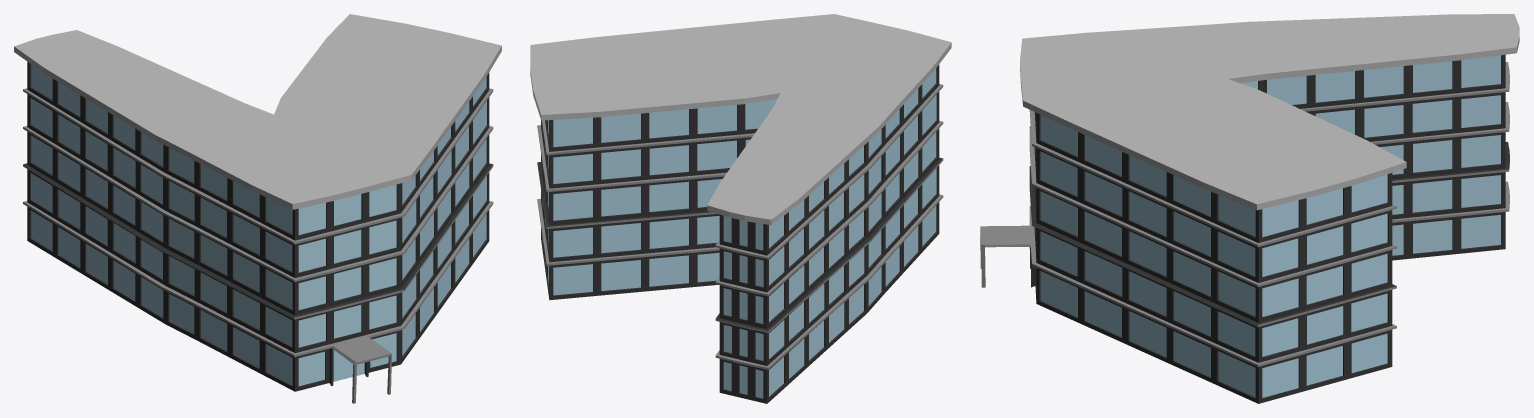
Rendered from hotel v.fbx.
3 renders of one model, left to right at view 1: azimuth 30°, elevation 25°; view 2: azimuth 150°, elevation 25°; view 3: azimuth 270°, elevation 25°, orthographic. The views are drawn at different scales.
Visible parts, largest first — view 1: Cube.099; view 2: Cube.099; view 3: Cube.099.
Part boxes in pixels (x1,y1,x2,y2): Cube.099: (14,14,501,403); Cube.099: (530,14,951,403); Cube.099: (980,14,1519,403).
Size of the model in its own units: 6121 by 3122 by 7329.
